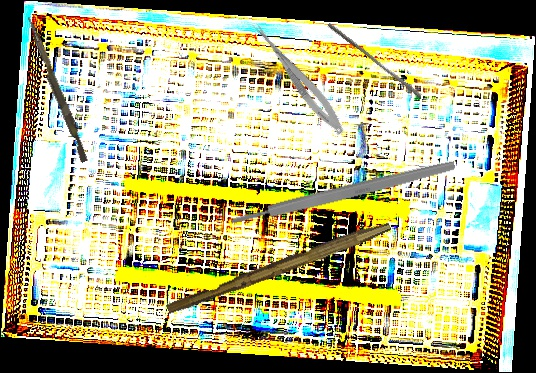Micro Scissor: (244, 18, 351, 139)
Pusher: (21, 16, 92, 163), (324, 22, 425, 99)
Scalpel Handle: (165, 214, 392, 320), (229, 158, 457, 228)
